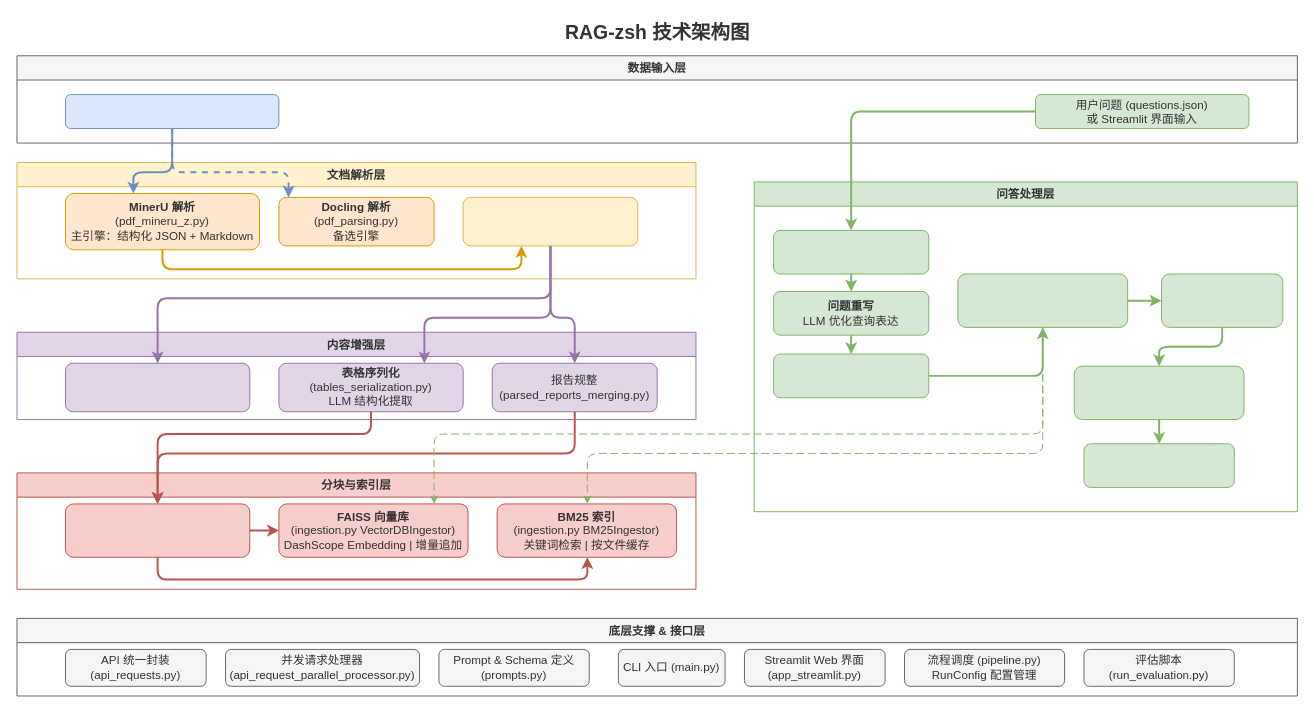
The diagram is 1314 pixels wide and 713 high, and some of its shapes have lost their labels. The shapes that lost their labels are listed below. From the top down, each one's centre as x and y in pixels, then its label:
At point 172,111: "PDF 研报/年报 (证券研报、企业年报、调研纪要)".
At point 550,221: "JSON→Markdown 合并 (merge_json_to_markdown.py)".
At point 851,251: "问题分类 fact_extraction / analysis / prediction".
At point 1042,300: "混合检索 (HybridBM25VectorRetriever) BM25 + FAISS 双路召回".
At point 1222,300: "DashScope Rerank gte-rerank-v2 精排重排序".
At point 157,387: "图片描述 (image_description.py) qwen-vl-plus 多模态模型".
At point 851,375: "元数据过滤 公司 / 券商 / 文档类型 / 时间".
At point 1158,392: "LLM 生成答案 OpenAI / DashScope / Gemini 带溯源引用".
At point 1158,465: "答案输出 answers*.json / Streamlit 展示".
At point 157,530: "文本分块 (text_splitter_z.py) Token 切分 + 表格特殊处理".
